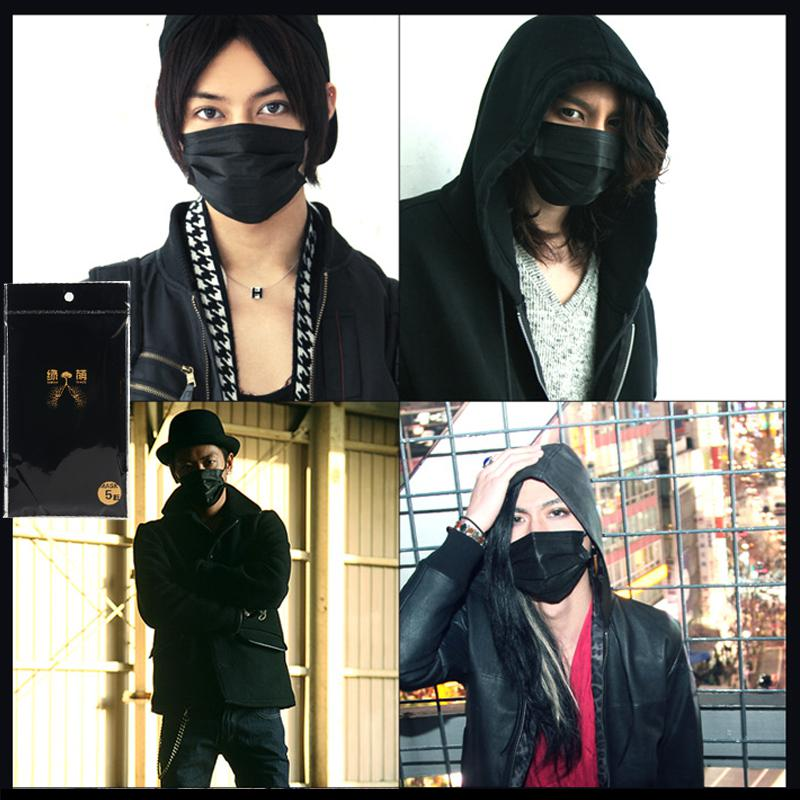OK: (172, 75, 318, 221), (528, 87, 645, 204), (497, 490, 606, 599), (175, 447, 226, 503)
